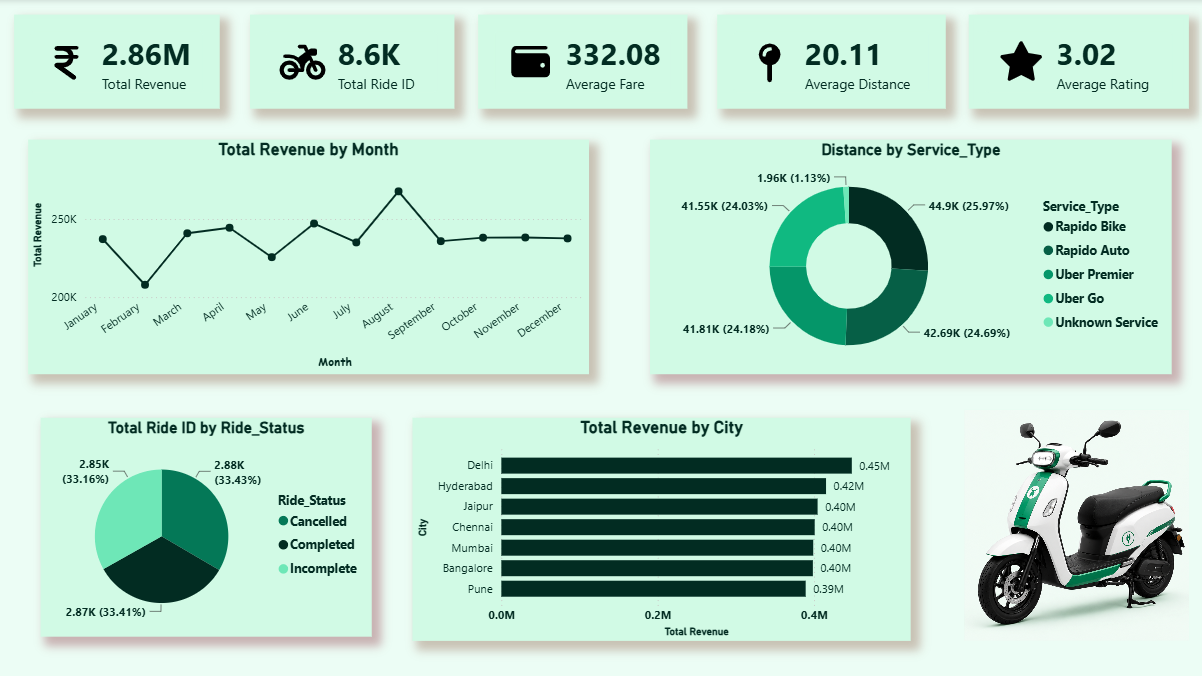

Layout of this report page (visuals, bound fields, positions):
{"tool":"powerbi","page":{"name":"1. Executive Overview","canvas":[1280,720],"ordinal":1},"visuals":[{"type":"clusteredBarChart","fields":{"Category":["Sheet2.City"],"Y":["Sum(Sheet2.Fare_INR)"]},"box":[437.7,444.4,528.9,237.1],"z":0},{"type":"donutChart","fields":{"Category":["Sheet2.Service_Type"],"Y":["Sum(Sheet2.Distance_KM)"]},"box":[689.8,149.2,553.8,248.7],"z":1000},{"type":"pieChart","fields":{"Category":["Sheet2.Ride_Status"],"Y":["CountNonNull(Sheet2.Ride_ID)"]},"box":[43.1,444.4,351.5,232.1],"z":2000},{"type":"lineChart","fields":{"Category":["Sheet2.Booking_Date.Variation.Date Hierarchy.Month"],"Y":["Sum(Sheet2.Fare_INR)"]},"box":[29.8,149.2,595.3,248.7],"z":3000},{"type":"cardVisual","fields":{"Data":["CountNonNull(Sheet2.Ride_ID)"]},"box":[264.8,16.7,216.7,100],"z":4000},{"type":"cardVisual","fields":{"Data":["Sheet2.AVG_Fare"]},"box":[507.4,16.7,222.2,100],"z":5000},{"type":"cardVisual","fields":{"Data":["Sheet2.AVG_Distance"]},"box":[761.1,16.7,242.6,100],"z":6000},{"type":"cardVisual","fields":{"Data":["Sheet2.AVG_Rating"]},"box":[1027.8,16.7,233.3,100],"z":7000},{"type":"image","box":[1023,436.1,238.8,245.4],"z":8000},{"type":"cardVisual","fields":{"Data":["Sum(Sheet2.TOTAL REVENUE)"]},"box":[14.8,16.7,218.5,100],"z":9000},{"type":"actionButton","box":[0,0,100,40],"z":9002}]}

Visuals, with their boxes in screenshot pixels (x1, y1, x2, y2), scaled from the page's 1280x720 canvas onto the 1202x676 screenshot:
clusteredBarChart - Sheet2.City x Sum(Sheet2.Fare_INR): box=[411, 417, 908, 640]
donutChart - Sheet2.Service_Type x Sum(Sheet2.Distance_KM): box=[648, 140, 1168, 374]
pieChart - Sheet2.Ride_Status x CountNonNull(Sheet2.Ride_ID): box=[40, 417, 371, 635]
lineChart - Sheet2.Booking_Date.Variation.Date Hierarchy.Month x Sum(Sheet2.Fare_INR): box=[28, 140, 587, 374]
cardVisual - CountNonNull(Sheet2.Ride_ID): box=[249, 16, 452, 110]
cardVisual - Sheet2.AVG_Fare: box=[476, 16, 685, 110]
cardVisual - Sheet2.AVG_Distance: box=[715, 16, 943, 110]
cardVisual - Sheet2.AVG_Rating: box=[965, 16, 1184, 110]
image: box=[961, 409, 1185, 640]
cardVisual - Sum(Sheet2.TOTAL REVENUE): box=[14, 16, 219, 110]
actionButton: box=[0, 0, 94, 38]
